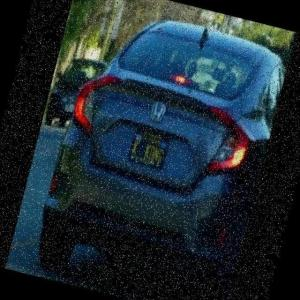Plate: (127, 125, 172, 172)
